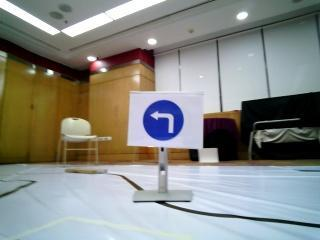left: (126, 90, 203, 151)
